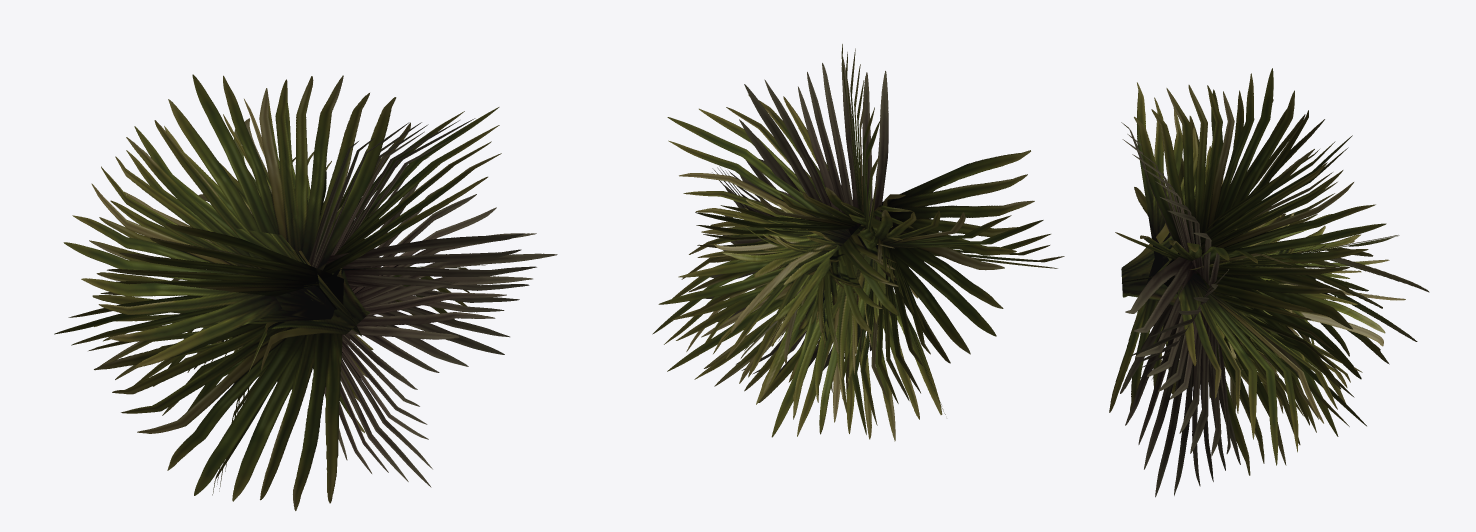
The model's file is MEP_Pandani_02.fbx.
3 views of the same model, side by side, from view 1: azimuth 30°, elevation 25°; view 2: azimuth 150°, elevation 25°; view 3: azimuth 270°, elevation 25° (orthographic). The views are drawn at different scales.
Parts seen in each view (by area): view 1: MEP_Pandani_02; view 2: MEP_Pandani_02; view 3: MEP_Pandani_02.
Part boxes in pixels (x1,y1,x2,y2): MEP_Pandani_02: (54, 74, 557, 510); MEP_Pandani_02: (652, 44, 1064, 441); MEP_Pandani_02: (1109, 68, 1429, 497).
Size of the model in its own units: 3.1 by 3.2 by 2.16.
